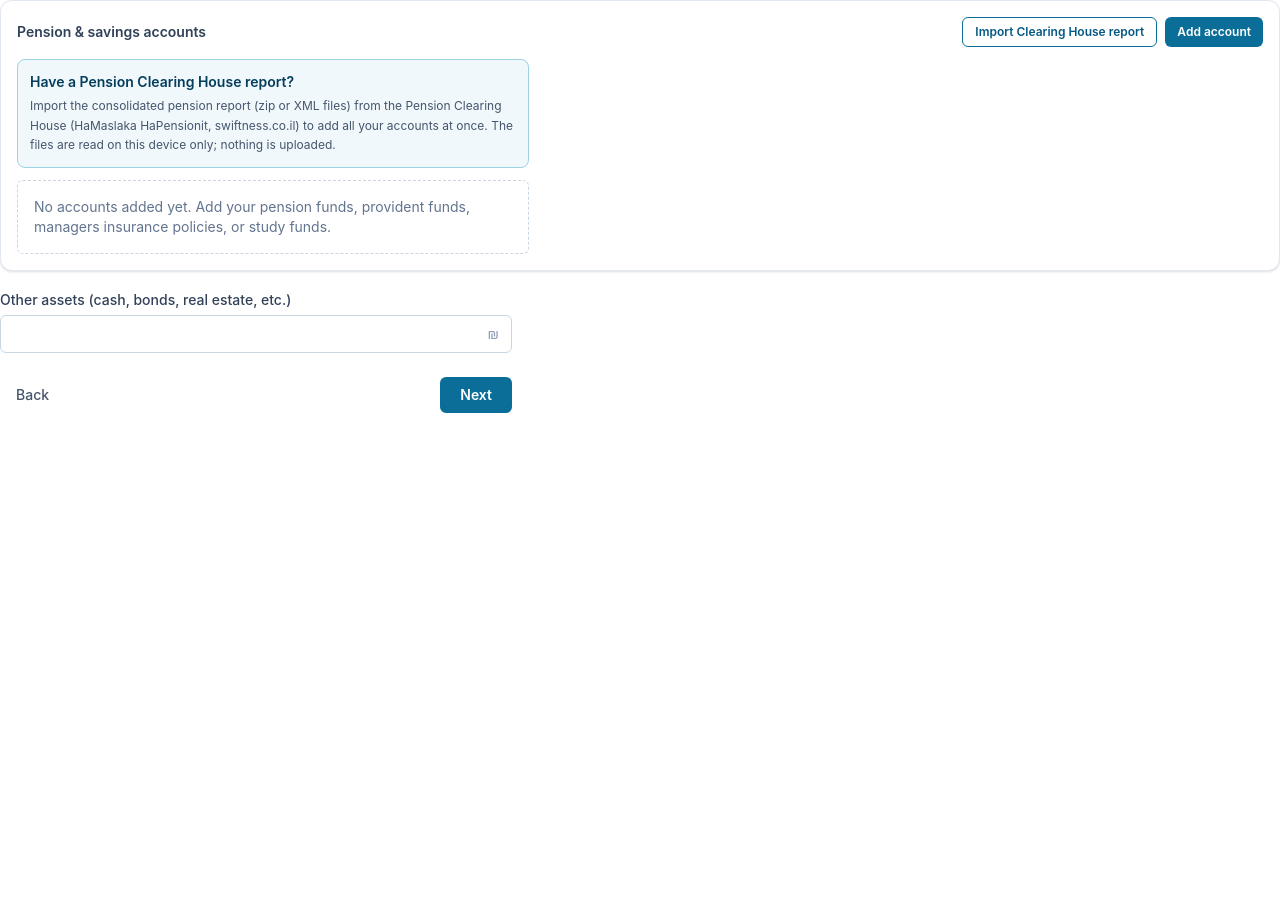
Test: PensionSavingsStep — accounts repeater › saves the policy number and fund ID and shows them in the account's table row
The image size is (1280, 900).
Step 1. Click the button "Add account" → {"x": 1214, "y": 32}, box [1165,17,1263,47]
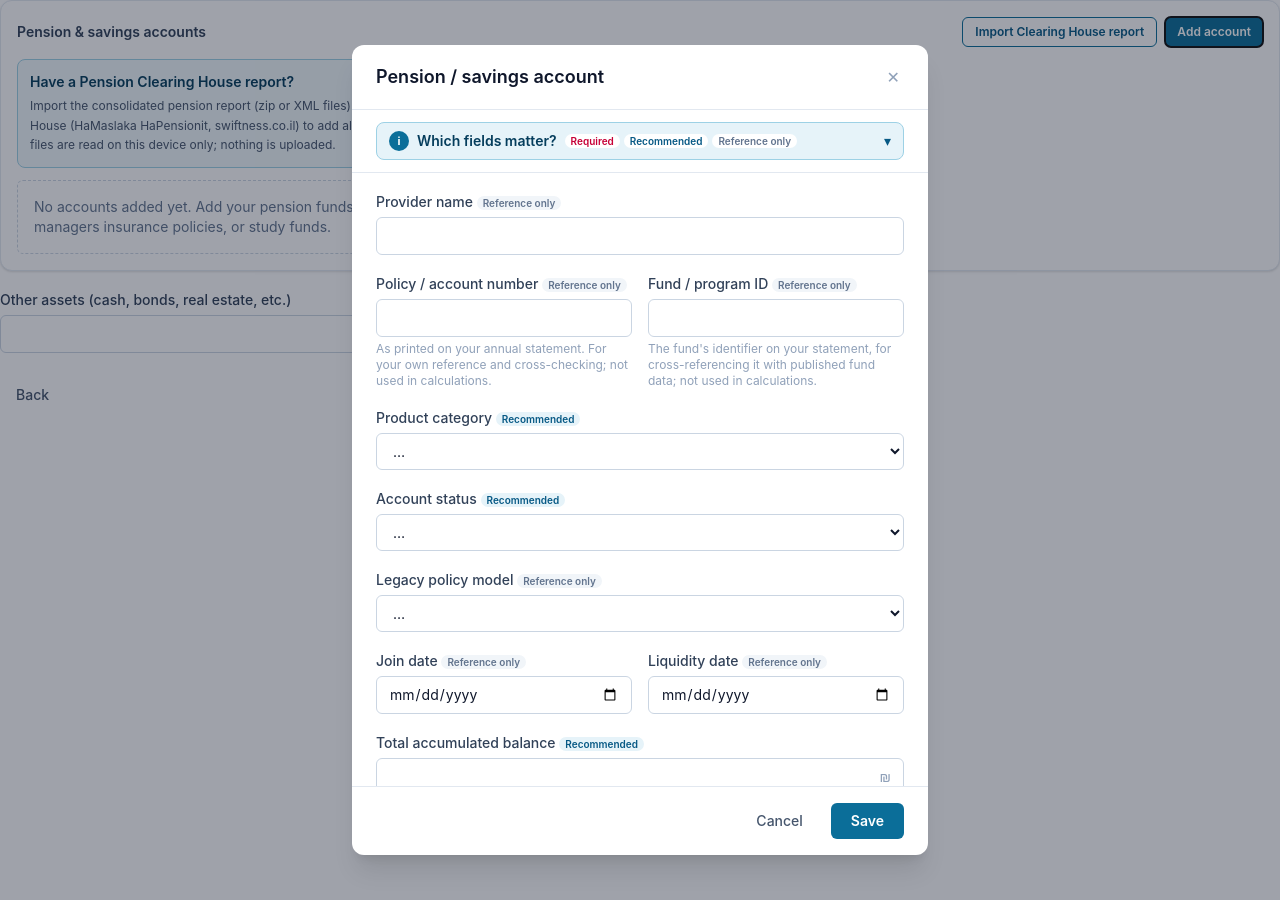
Step 2. Type "Clal" into the field labelled "Provider name Reference only" → {"x": 640, "y": 236}, box [376,217,904,255]
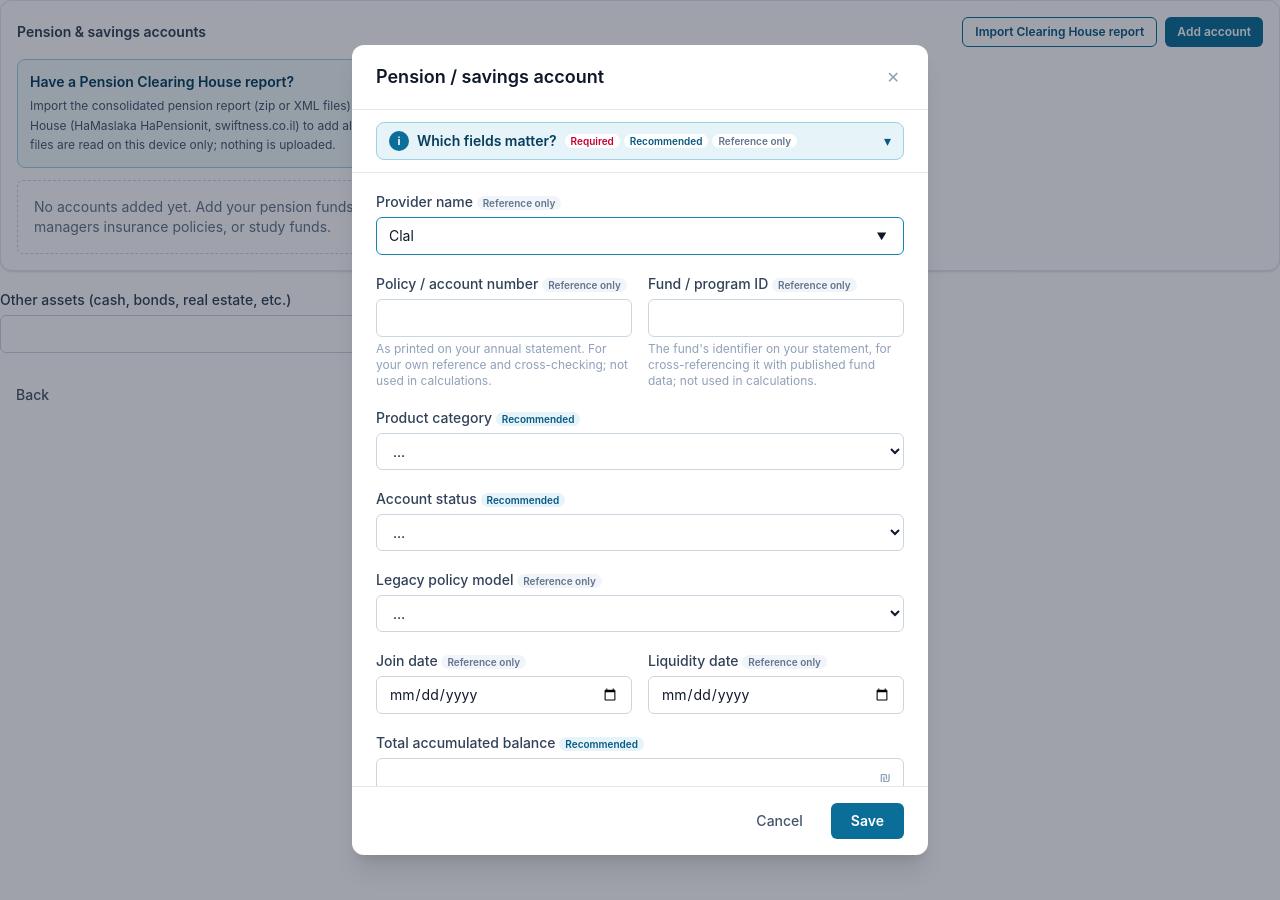
Step 3. Type "CLAL-9255621" into the field labelled "Policy / account number" → {"x": 504, "y": 318}, box [376,299,632,337]
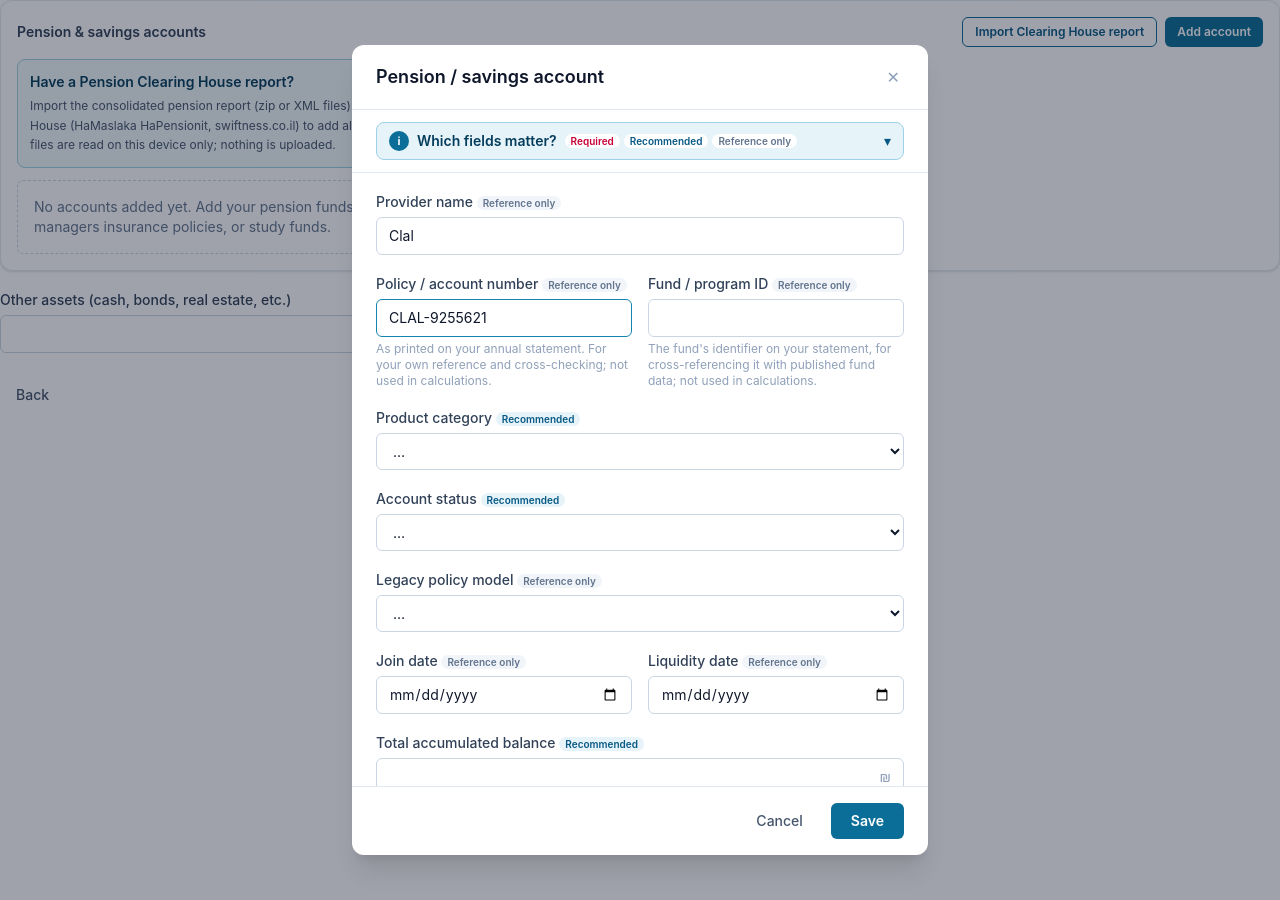
Step 4. Type "12345" into the field labelled "Fund / program ID" → {"x": 776, "y": 318}, box [648,299,904,337]
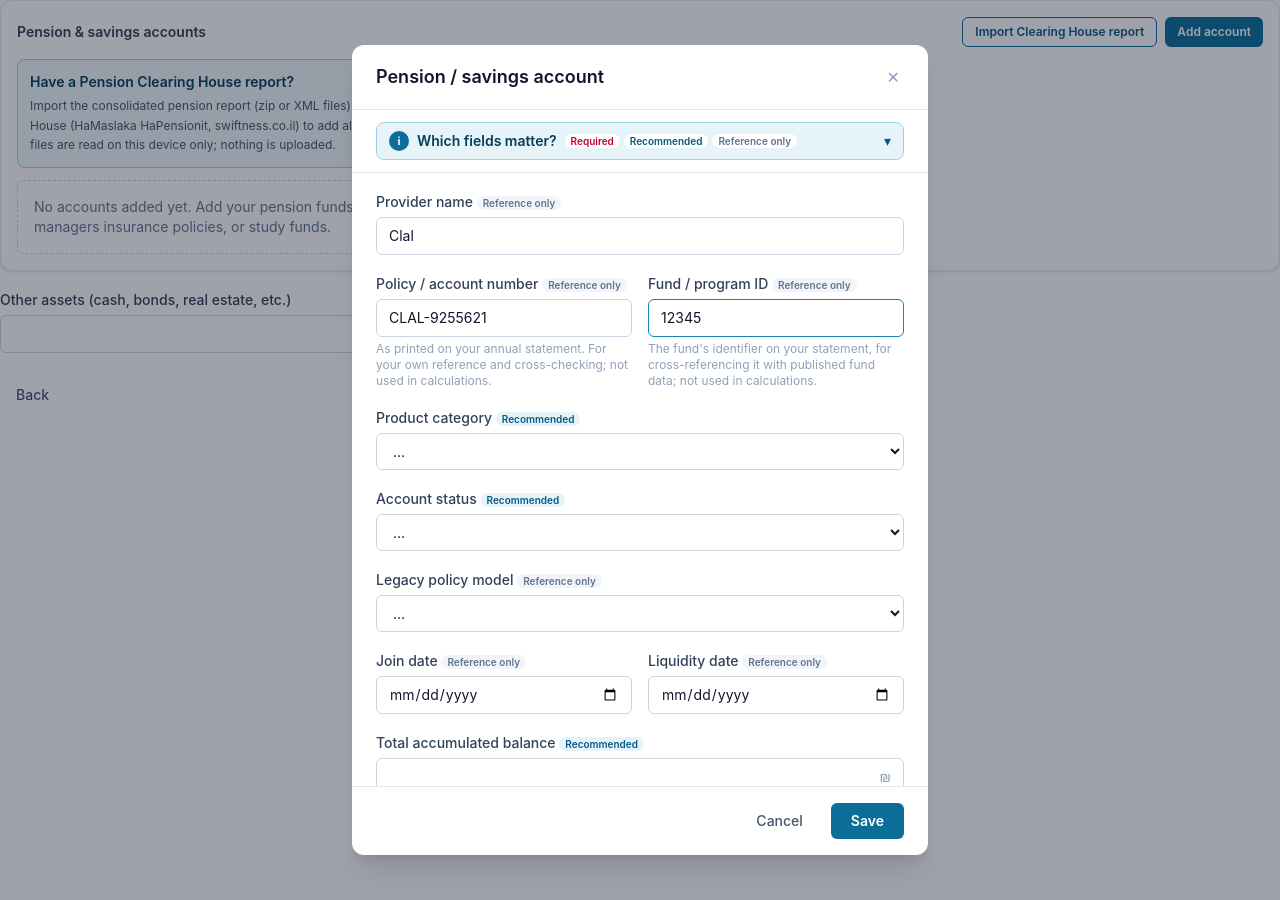
Step 5. Click the button "Save" → {"x": 867, "y": 821}, box [831,803,904,839]
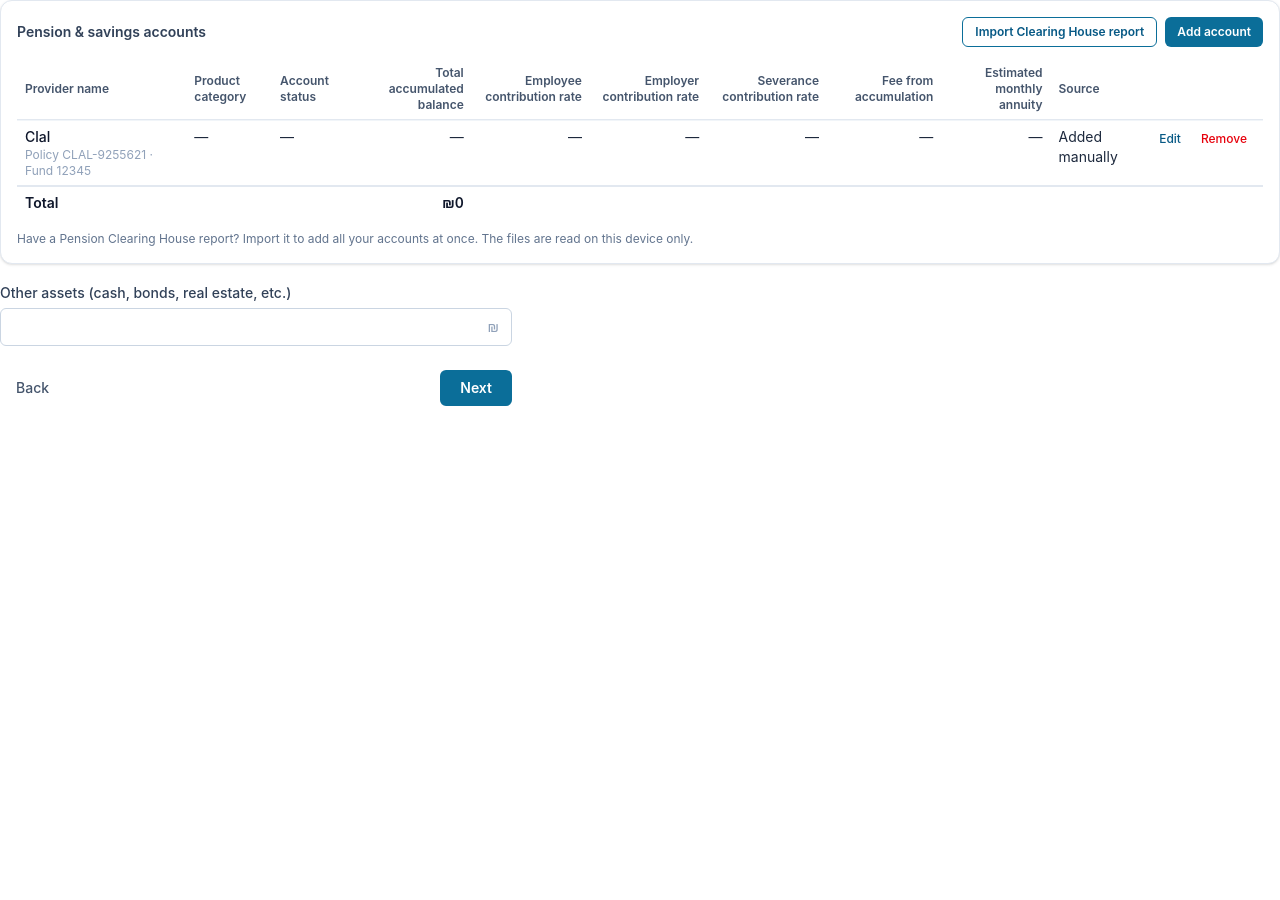
Result: the text "Policy CLAL-9255621 · Fund 12345" is shown at [25,147,153,178]
